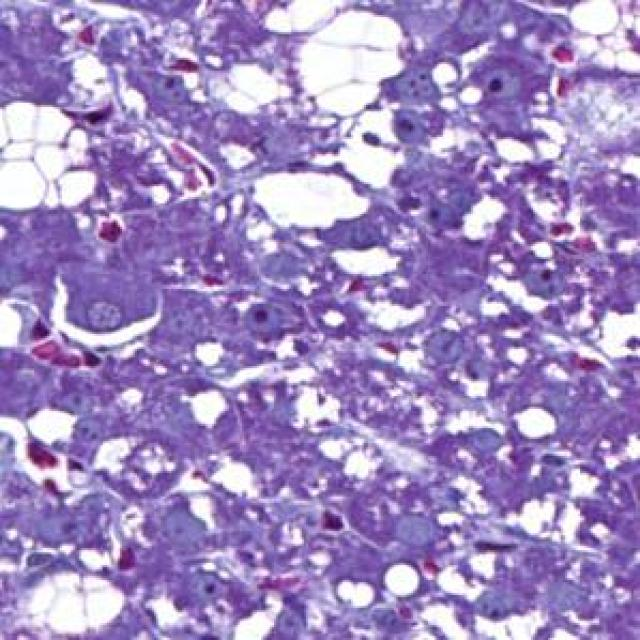ballooning: (281, 7, 413, 126), (9, 96, 100, 220), (22, 563, 128, 629)
